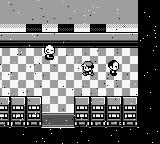main: (81, 62, 94, 75)
no-caminable: (1, 0, 160, 143), (2, 2, 138, 32), (1, 34, 137, 48), (75, 97, 136, 127), (1, 98, 41, 127)
npc: (44, 45, 56, 60), (108, 60, 120, 75)
puerta: (42, 114, 74, 127)
